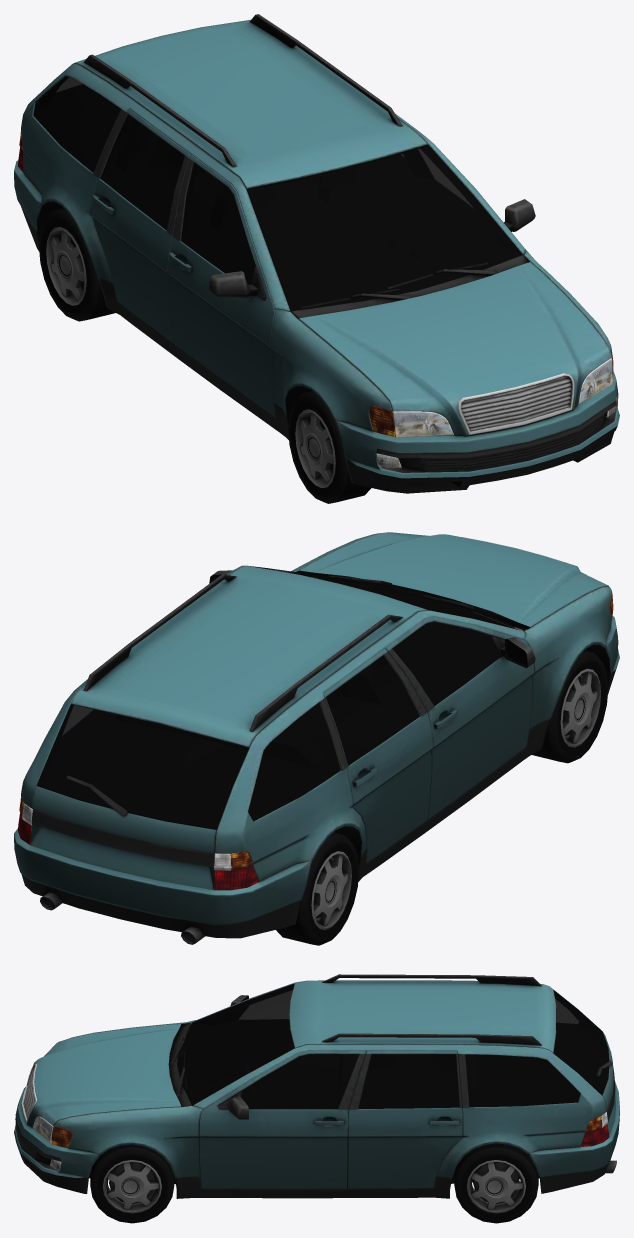
Rendered from pack_wagon.glb.
3 renders of one model, top to bottom at view 1: azimuth 30°, elevation 25°; view 2: azimuth 150°, elevation 25°; view 3: azimuth 270°, elevation 25°, orthographic. The views are drawn at different scales.
Visible parts, largest first — view 1: Wagon Body_Body_0, Wagon Body_Glass_0, Wheel_A002_Wheel_0, Wheel_A003_Wheel_0, Wagon Body_Optics_0; view 2: Wagon Body_Body_0, Wagon Body_Glass_0, Wheel_A003_Wheel_0, Wheel_A002_Wheel_0, Wagon Body_Optics_0; view 3: Wagon Body_Body_0, Wagon Body_Glass_0, Wheel_A001_Wheel_0, Wheel_A_Wheel_0, Wagon Body_Optics_0.
Part boxes in pixels (left/top/right/bottom): Wagon Body_Body_0: left=14, top=14, right=619, bottom=493; Wagon Body_Glass_0: left=33, top=76, right=522, bottom=311; Wheel_A002_Wheel_0: left=288, top=391, right=371, bottom=503; Wheel_A003_Wheel_0: left=39, top=208, right=115, bottom=321; Wagon Body_Optics_0: left=18, top=131, right=617, bottom=468; Wagon Body_Body_0: left=14, top=532, right=619, bottom=944; Wagon Body_Glass_0: left=36, top=565, right=522, bottom=829; Wheel_A003_Wheel_0: left=276, top=832, right=359, bottom=945; Wheel_A002_Wheel_0: left=532, top=650, right=608, bottom=763; Wagon Body_Optics_0: left=18, top=592, right=613, bottom=890; Wagon Body_Body_0: left=14, top=974, right=619, bottom=1198; Wagon Body_Glass_0: left=177, top=983, right=609, bottom=1109; Wheel_A001_Wheel_0: left=454, top=1143, right=538, bottom=1223; Wheel_A_Wheel_0: left=90, top=1144, right=174, bottom=1223; Wagon Body_Optics_0: left=32, top=1112, right=609, bottom=1170.
Size of the model in its own units: 1.95 by 1.38 by 4.38.
Materials: 4 (3 with a texture image).
